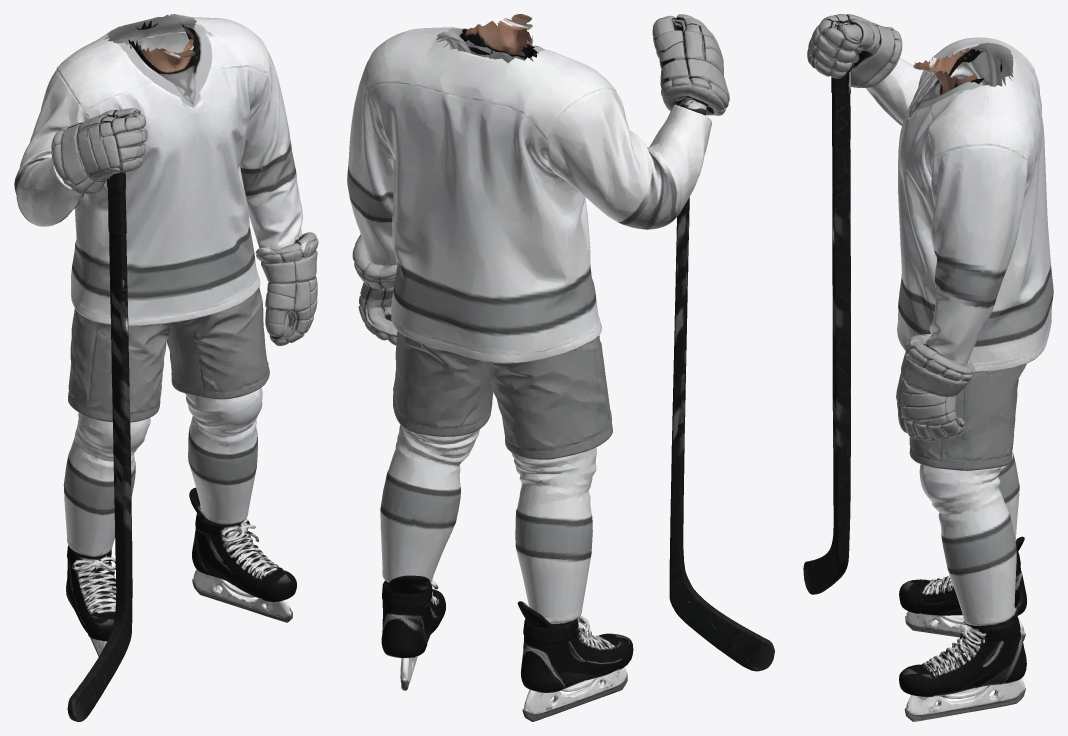
Rendered from body_standing_hi.glb.
3 views of the same model, side by side, from view 1: azimuth 30°, elevation 25°; view 2: azimuth 150°, elevation 25°; view 3: azimuth 270°, elevation 25° (orthographic). The views are drawn at different scales.
Parts seen in each view (by area): view 1: body; view 2: body; view 3: body.
Boxes of the visible parts, <box> form: body: <box>14,14,318,721</box>; body: <box>347,14,774,721</box>; body: <box>803,14,1053,721</box>.
Size of the model in its own units: 0.89 by 1.62 by 0.601.
1 material, 1 textured.
